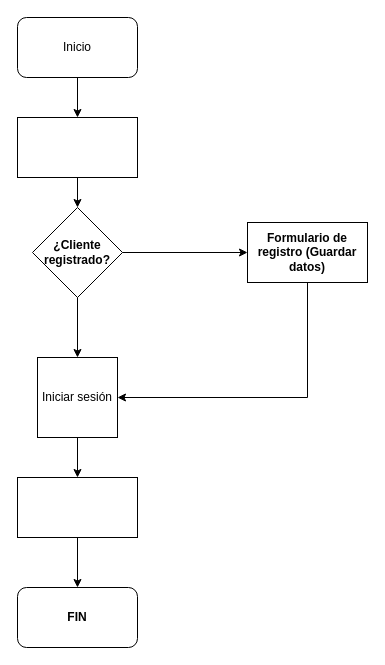
This 385x665 diagram has some shape labels left out. The shapes that lost their labels are listed below. From the top down, each one's centre as x and y in pixels, then its label:
At [77,147]: "Ingreso del cliente al sitio web".
At [77,507]: "Ver catálogo / Seleccionar producto de agua".
